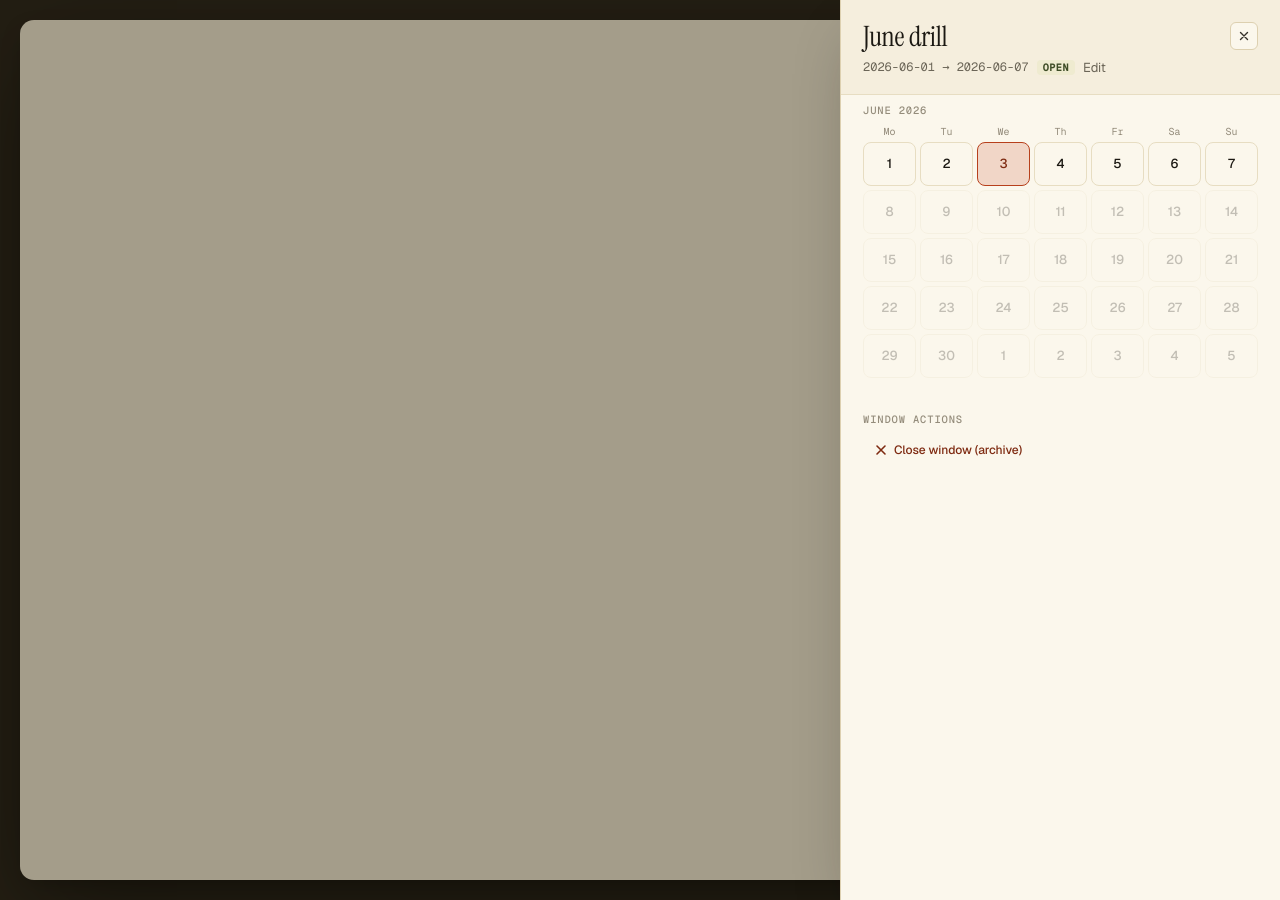
DeploymentWindowDrawer › rejected pick with a commander note renders the rejection note
The width and height of the screenshot is (1280, 900).
Click the 1st button "3" at (1004, 164), box [977,142,1030,186]
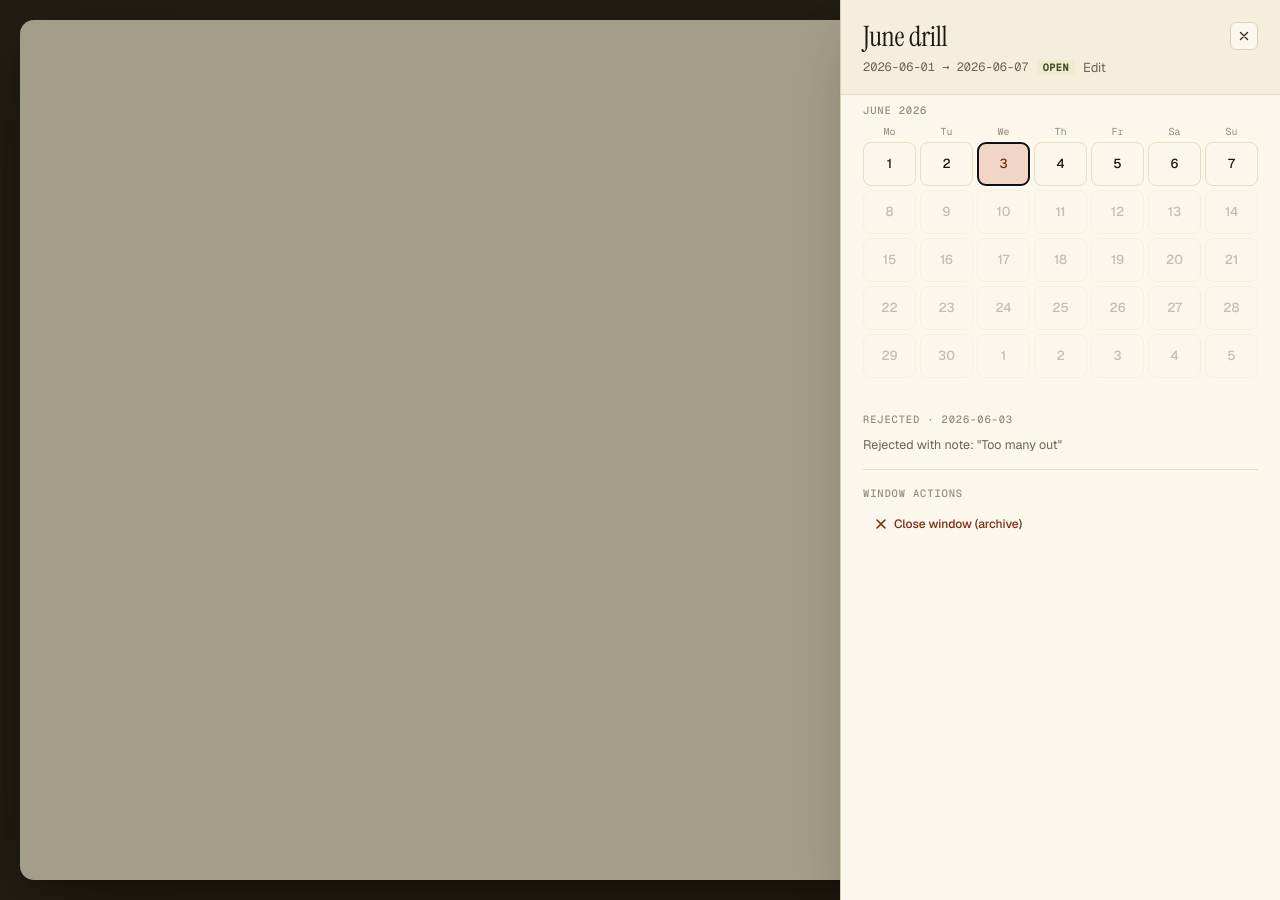
Expected: the heading "REJECTED · 2026-06-03" is shown, [863,412,1013,426]
Expected: the text "Rejected with note: \"Too many out\"" is shown, [863,436,1062,453]
